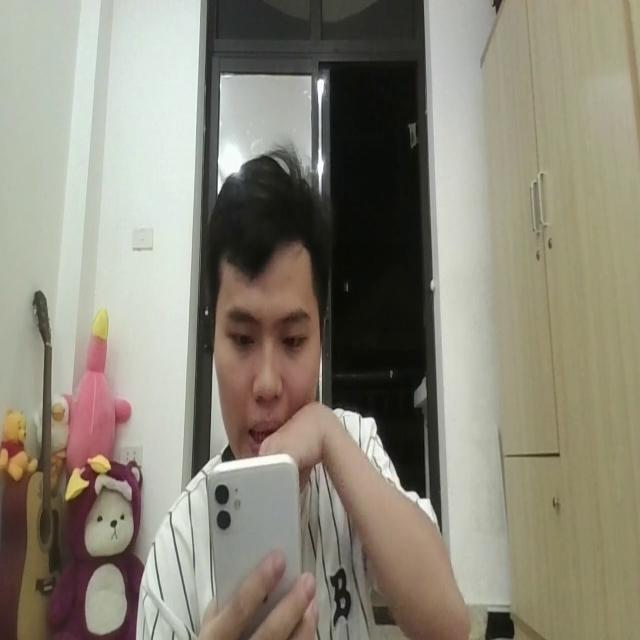phone: (206, 452, 303, 613)
student: (132, 142, 470, 640)
